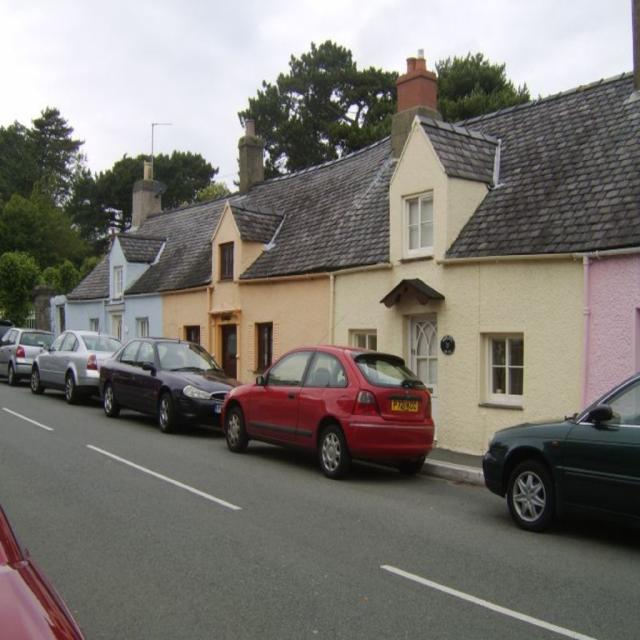car: (211, 342, 443, 480)
